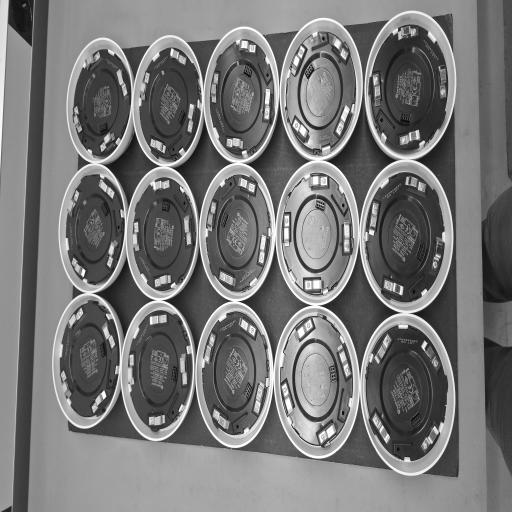konnektor: (304, 60, 316, 82), (416, 242, 426, 266), (399, 108, 412, 125), (219, 211, 229, 233), (328, 364, 338, 385), (409, 413, 422, 429), (243, 382, 253, 401), (313, 199, 326, 213), (100, 199, 110, 217), (243, 64, 253, 80), (98, 342, 106, 362), (170, 364, 178, 384), (159, 202, 173, 212), (178, 109, 184, 126), (98, 121, 107, 132)
yayli: (371, 408, 392, 448), (420, 336, 441, 373), (378, 274, 408, 298), (364, 198, 381, 239), (421, 419, 441, 453), (337, 340, 353, 382), (294, 315, 316, 345), (317, 417, 339, 447), (291, 42, 307, 82), (202, 330, 218, 370), (64, 305, 86, 334), (280, 378, 295, 420), (370, 70, 384, 114), (431, 231, 445, 275), (210, 405, 232, 433), (374, 332, 392, 366), (335, 100, 351, 138), (330, 34, 350, 64), (300, 278, 330, 298), (236, 314, 259, 340), (65, 186, 81, 223), (340, 215, 354, 256), (106, 234, 120, 275), (403, 174, 429, 196), (96, 175, 117, 202), (253, 374, 266, 416), (292, 114, 310, 144), (68, 252, 88, 279), (179, 349, 191, 394), (305, 174, 333, 193), (116, 63, 130, 101), (437, 58, 448, 106), (395, 23, 420, 44), (206, 198, 219, 238), (91, 387, 108, 417), (209, 67, 222, 106), (224, 132, 246, 155), (236, 175, 258, 198), (60, 368, 74, 404), (282, 209, 293, 254), (397, 129, 423, 148), (83, 48, 102, 74), (186, 98, 198, 138), (102, 315, 116, 348), (147, 311, 169, 332), (150, 134, 170, 157), (138, 67, 150, 105), (168, 45, 188, 67), (257, 227, 268, 267), (218, 266, 238, 288), (98, 130, 116, 154), (182, 213, 194, 249), (262, 85, 272, 128), (147, 412, 168, 432), (150, 175, 172, 194), (152, 271, 174, 290), (71, 105, 84, 137), (235, 38, 258, 56), (127, 350, 136, 392), (131, 220, 141, 256)
